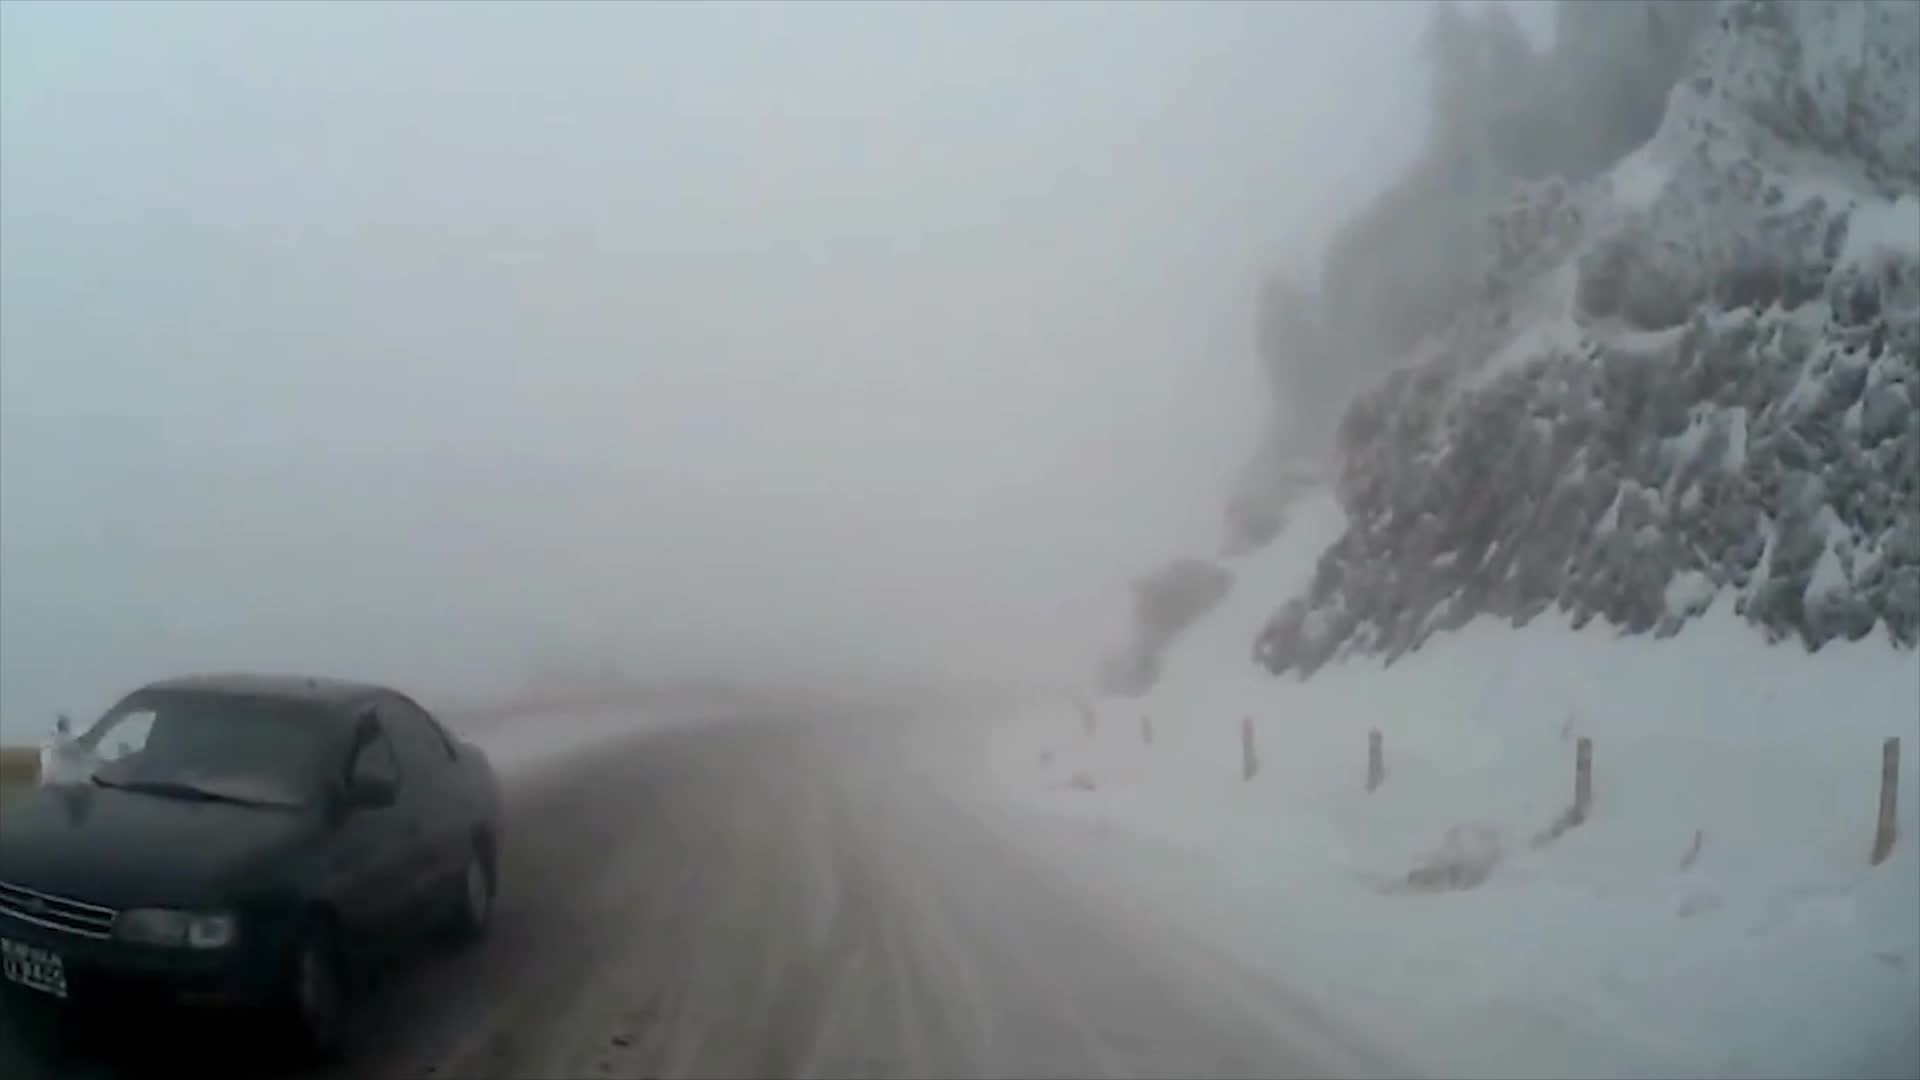vehicle: (0, 670, 504, 1064)
